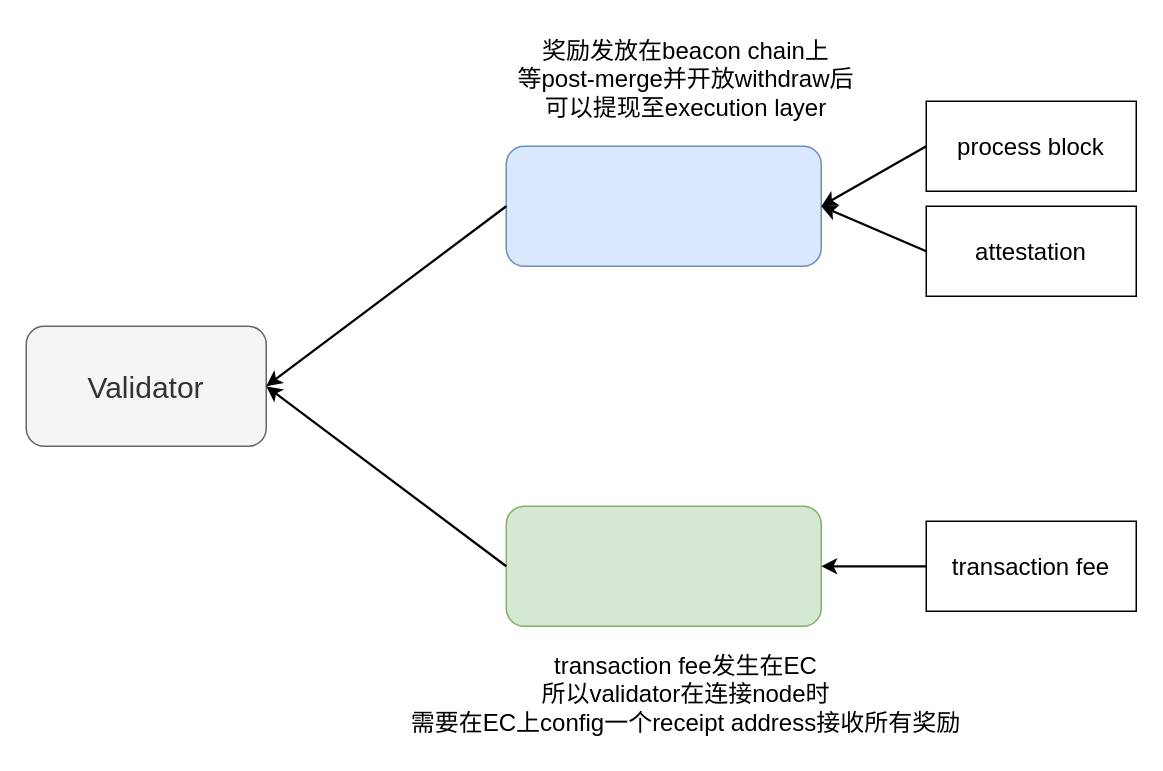
Some shapes in this 1163 by 771 pixel diagram are drawn without their labels. The centre of each missing label's shape, as x and y in pixels:
Beacon chain: point (663, 205)
Execution Chain: point (663, 565)
